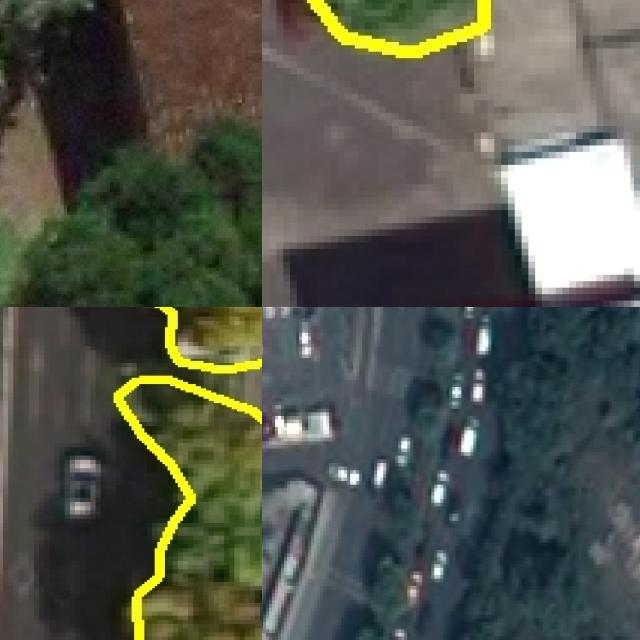trees: (453, 308, 640, 640), (1, 124, 263, 308), (117, 379, 263, 640), (1, 1, 94, 121), (312, 1, 485, 53), (366, 554, 405, 625), (405, 377, 444, 421), (423, 316, 456, 350), (355, 627, 381, 640)
